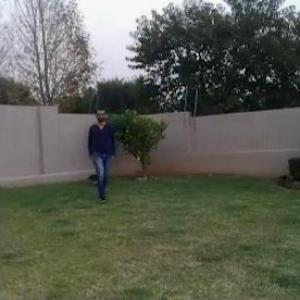follow: (88, 107, 116, 203)
